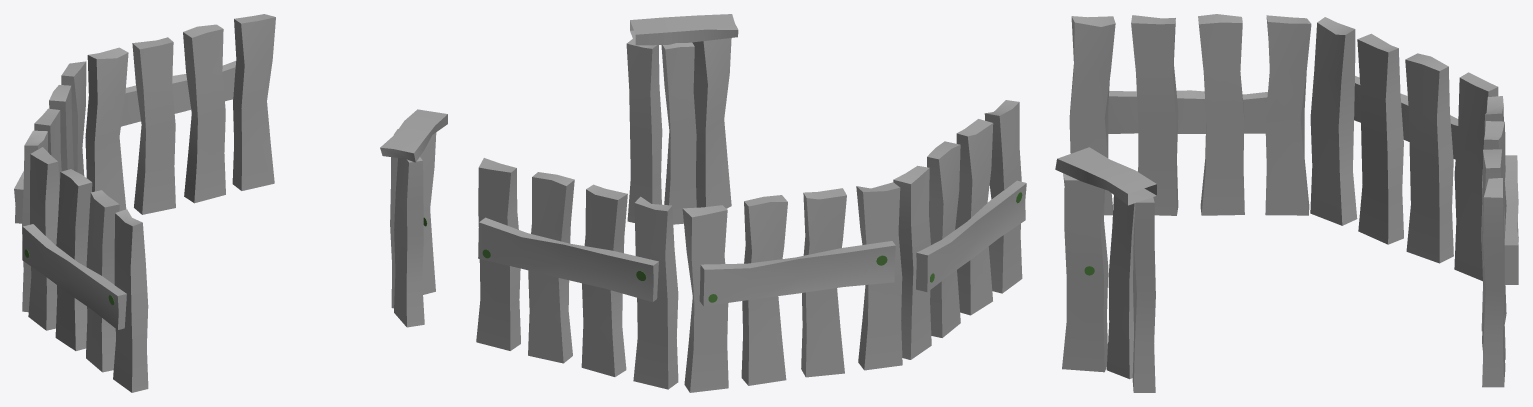
File: VallaEsquina.fbx
The picture shows the model from 3 angles, left to right: view 1: azimuth 30°, elevation 25°; view 2: azimuth 150°, elevation 25°; view 3: azimuth 270°, elevation 25°; orthographic projection. The views are drawn at different scales.
Parts seen in each view (by area): view 1: polySurface14; view 2: polySurface14; view 3: polySurface14.
Boxes of the visible parts, <box> form: polySurface14: <box>14,14,447,392</box>; polySurface14: <box>476,14,1026,392</box>; polySurface14: <box>1055,14,1518,392</box>.
Bounding box in the file's own units: 183 × 88.7 × 181.
